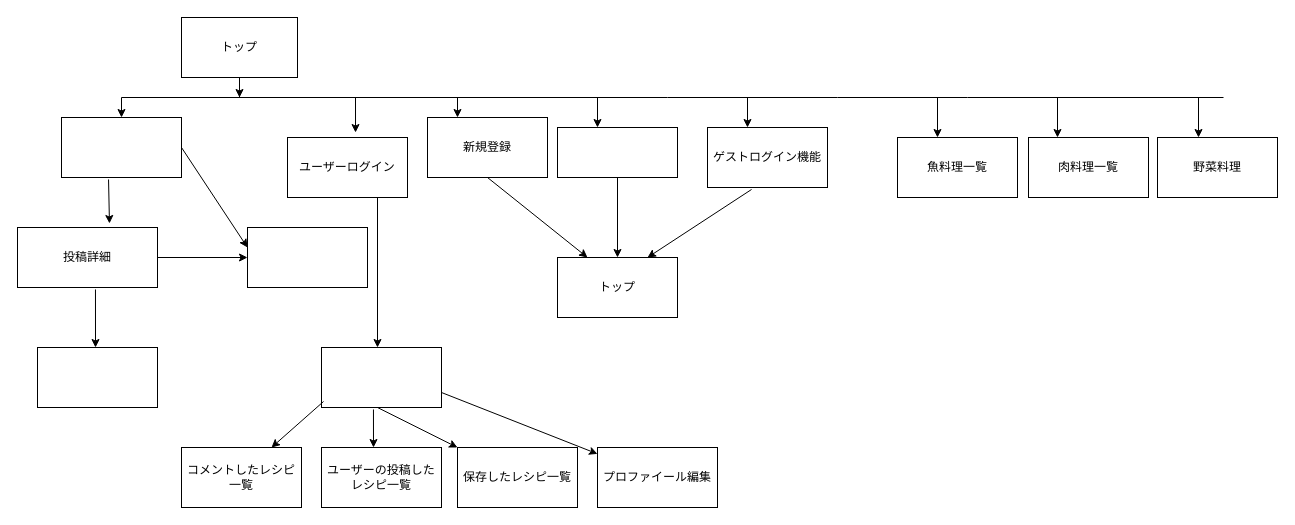
The diagram is 1295 pixels wide and 525 high, and some of its shapes have lost their labels. The shapes that lost their labels are listed below. From the top down, each one's box as (x1, y1, x2, y2) in pixels, then its label:
(60, 116, 182, 178): 投稿一覧
(556, 126, 678, 178): ログイン機能
(246, 226, 368, 288): 新規投稿
(36, 346, 158, 408): コメント
(320, 346, 442, 408): ユーザーページ（マイページ）
